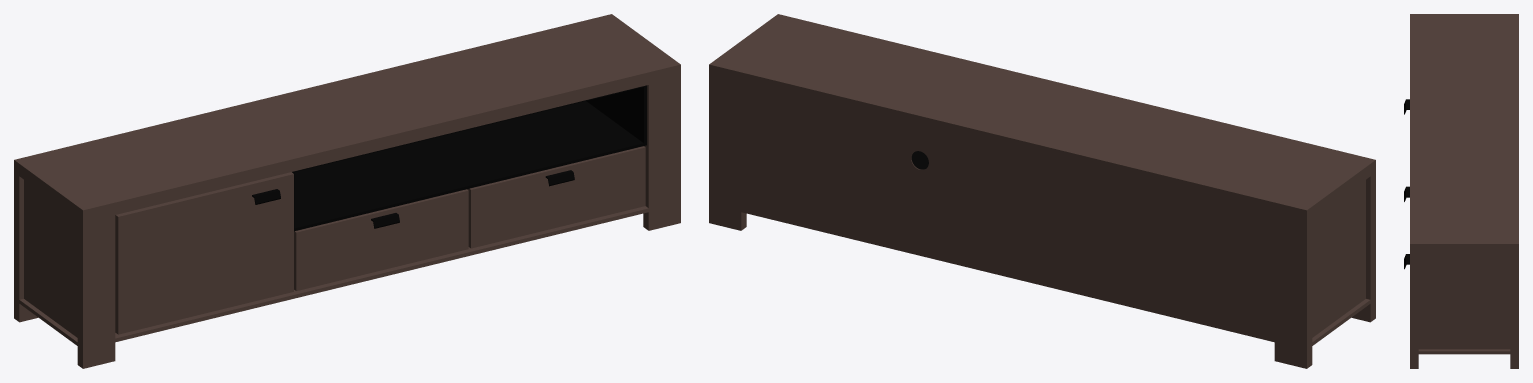
File: tstand2.glb
3 renders of one model, left to right at view 1: azimuth 30°, elevation 25°; view 2: azimuth 150°, elevation 25°; view 3: azimuth 270°, elevation 25°, orthographic. The views are drawn at different scales.
Visible parts, largest first — view 1: TV Stand_0; view 2: TV Stand_0; view 3: TV Stand_0.
Boxes of the visible parts, bbox=[...] form: TV Stand_0: bbox=[14, 14, 680, 368]; TV Stand_0: bbox=[709, 14, 1375, 368]; TV Stand_0: bbox=[1404, 14, 1518, 368].
Size of the model in its own units: 2 by 0.507 by 0.4223.
